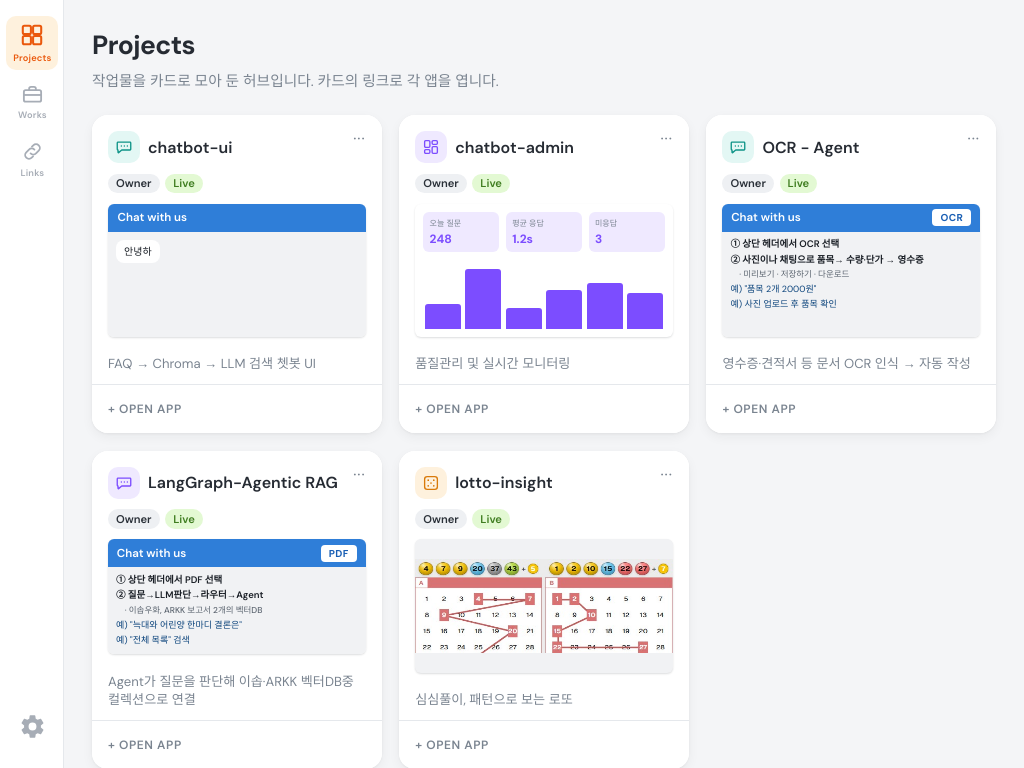
Test: 사이드 네비 · Works · Links › Works는 카드와 상세 패널을 동시에 보여준다
Click the button "Works" at (32, 102), box [6,76,58,128]
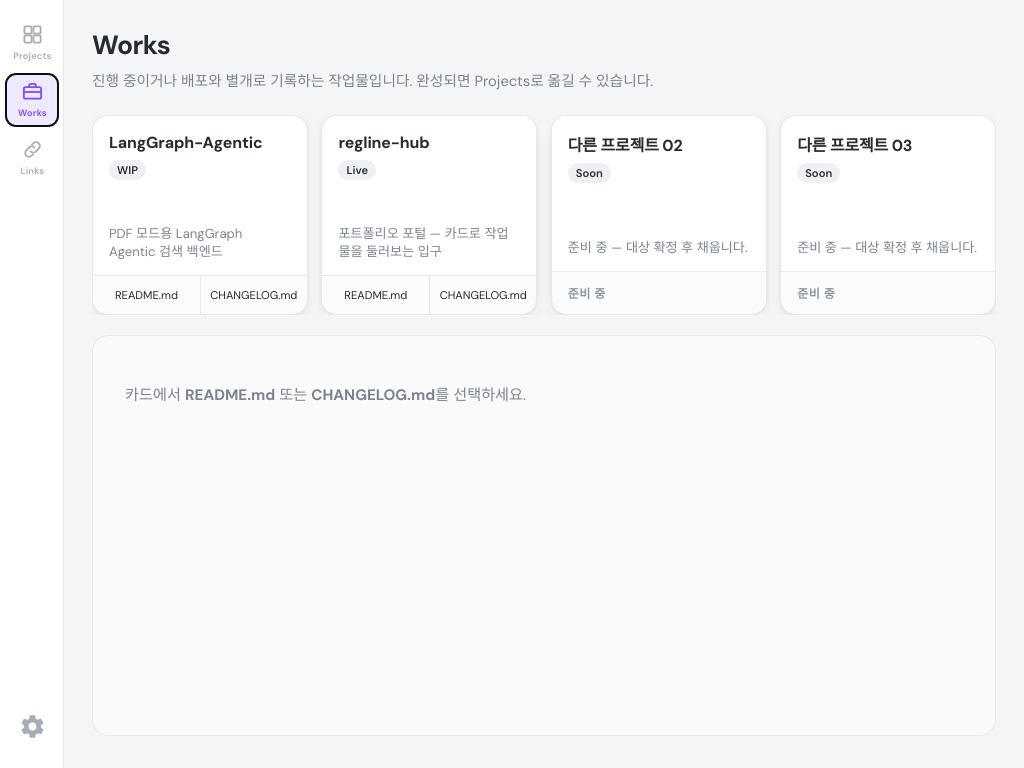
Check: the heading "Works" is shown, box [92,28,170,62]
Check: the element named "진행 중 작업 목록" is shown, box [92,115,996,315]
Check: the element named "Works 상세 패널" is shown, box [92,335,996,736]
